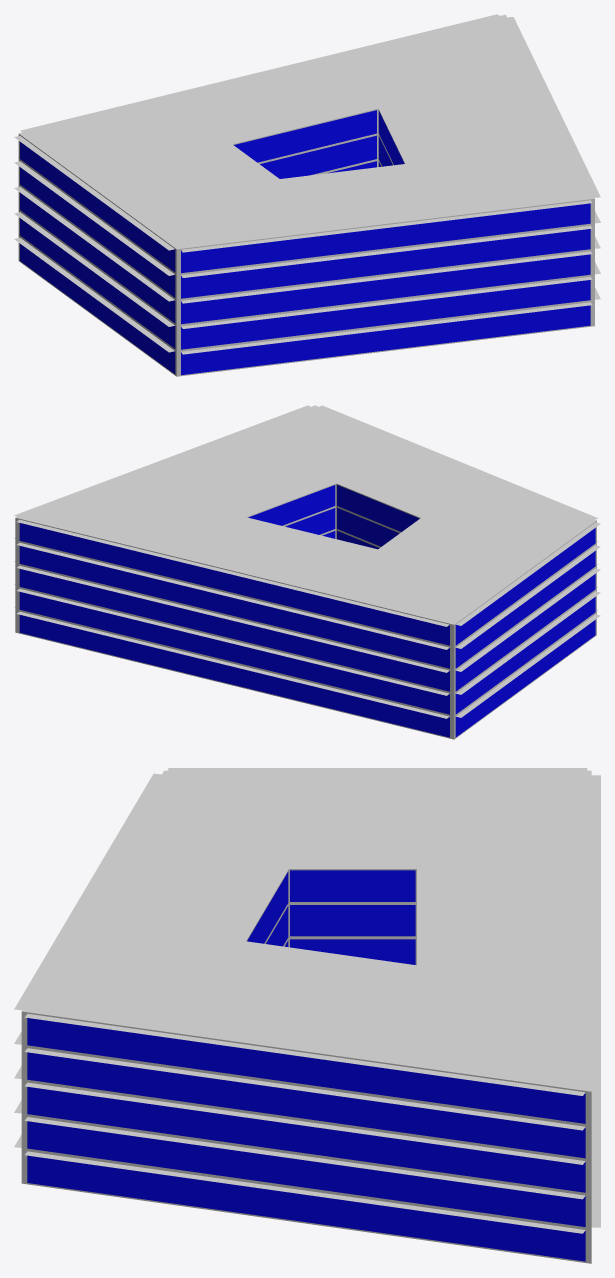
3 renders of one model, top to bottom at view 1: azimuth 30°, elevation 25°; view 2: azimuth 150°, elevation 25°; view 3: azimuth 270°, elevation 25°, orthographic. The views are drawn at different scales.
Visible parts, largest first — view 1: node0 (×2); view 2: node0 (×2); view 3: node0 (×2).
Part boxes in pixels (box(x1,y1,x2,y2)): node0 (×2): box(14, 14, 600, 376); node0 (×2): box(14, 405, 600, 739); node0 (×2): box(14, 768, 600, 1263).
Bounding box in the file's own units: 81.75 × 61.82 × 20.
